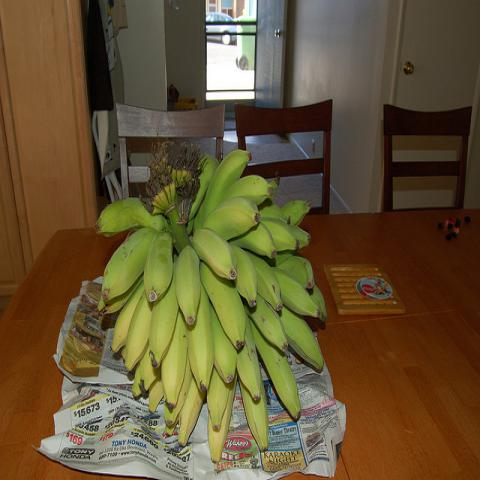car: (206, 13, 236, 45)
